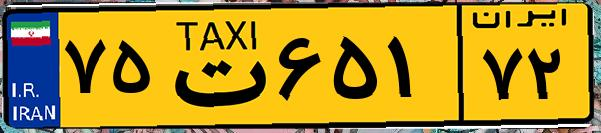1: (385, 28, 445, 110)
2: (525, 38, 570, 115)
5: (330, 28, 385, 110), (110, 28, 158, 98)
6: (270, 28, 330, 110)
7: (57, 26, 110, 100), (475, 38, 525, 113)
ت: (158, 12, 270, 120)
